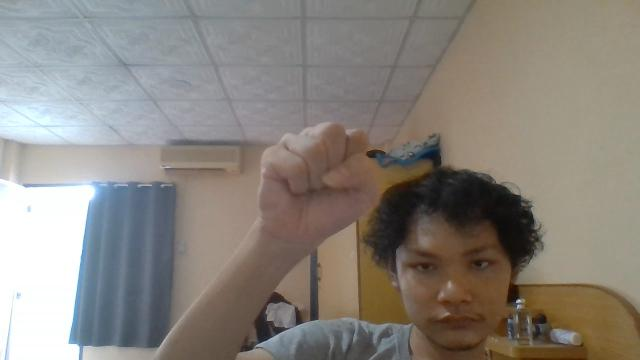forward: (257, 121, 379, 251)
